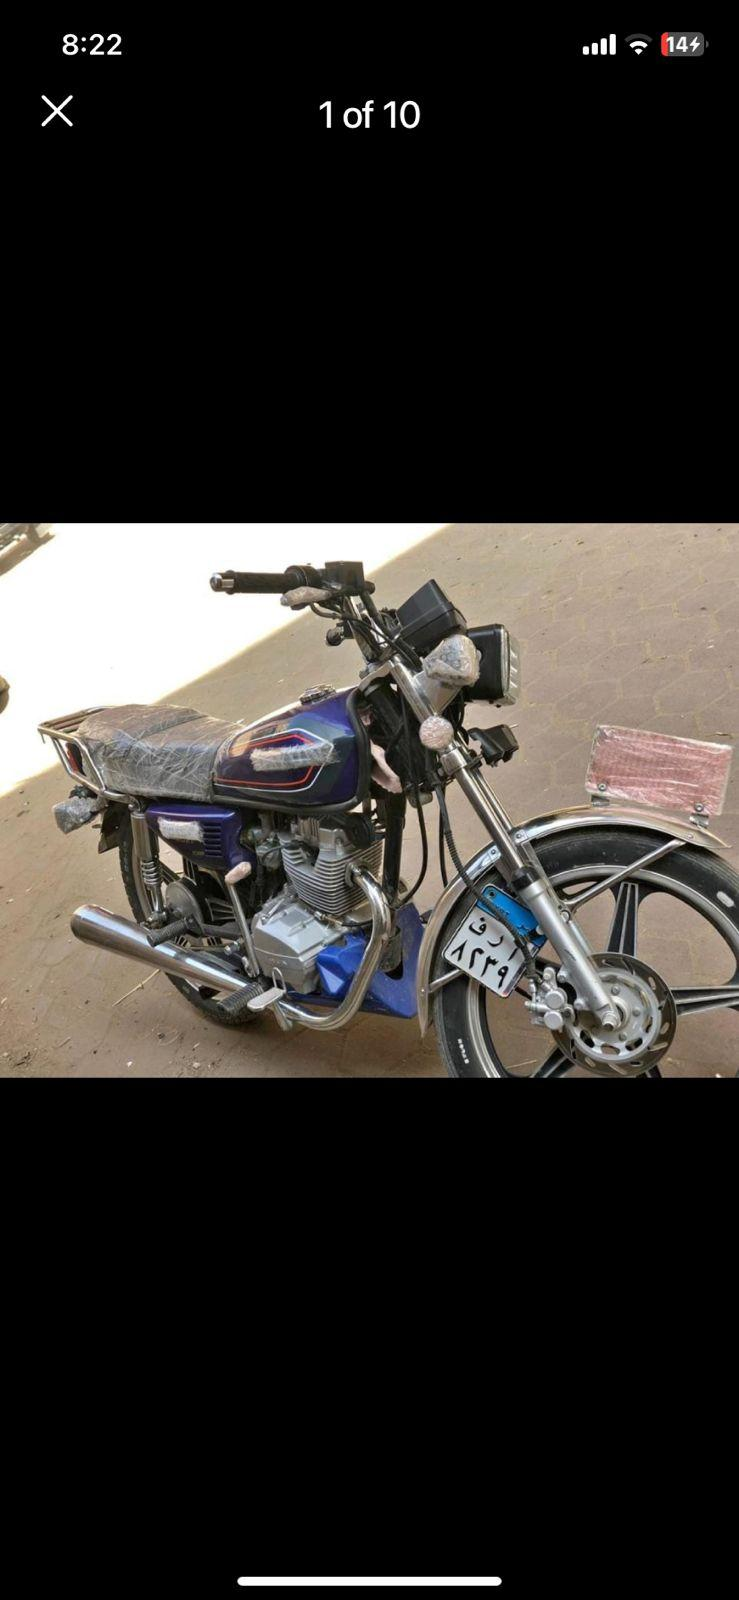License Plate: (439, 884, 554, 1000)
